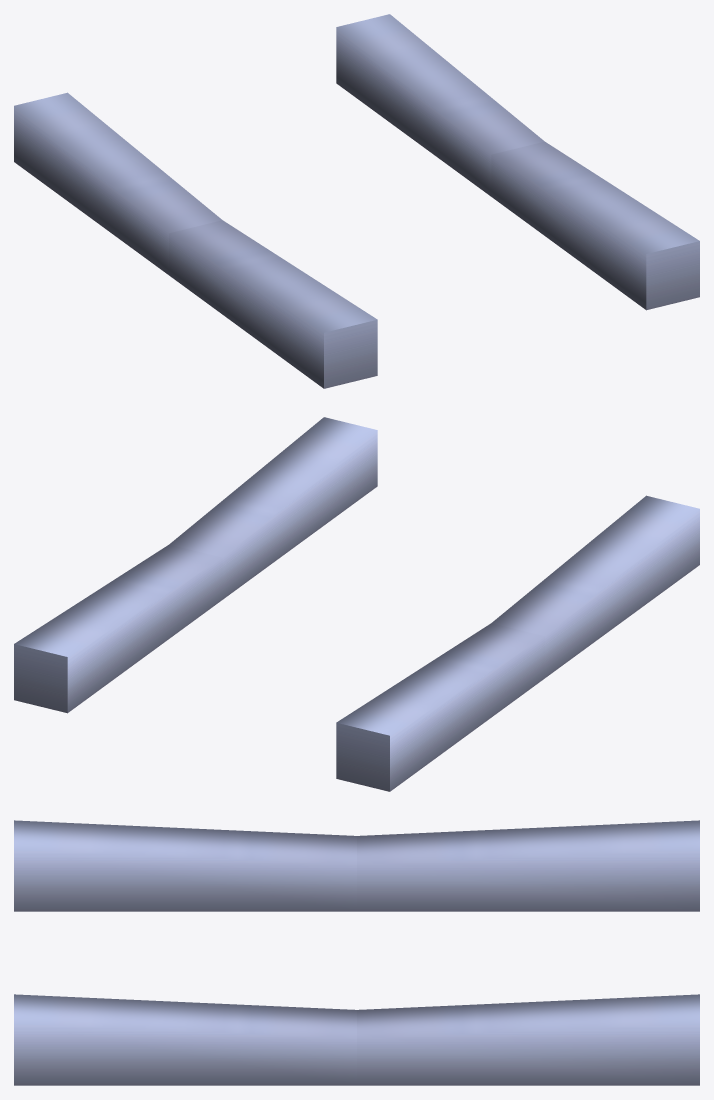
The model's file is kenney-train-spline-track-damaged.glb.
3 views of the same model, one above another, from view 1: azimuth 30°, elevation 25°; view 2: azimuth 150°, elevation 25°; view 3: azimuth 270°, elevation 25° (orthographic). The views are drawn at different scales.
Visible parts, largest first — view 1: spline-track-damaged; view 2: spline-track-damaged; view 3: spline-track-damaged.
Part boxes in pixels (<box>): spline-track-damaged: <box>14,14,699,388</box>; spline-track-damaged: <box>14,417,699,791</box>; spline-track-damaged: <box>14,820,699,1085</box>.
Size of the model in its own units: 0.7 by 0.1 by 1.
Materials: 1 (1 with a texture image).
